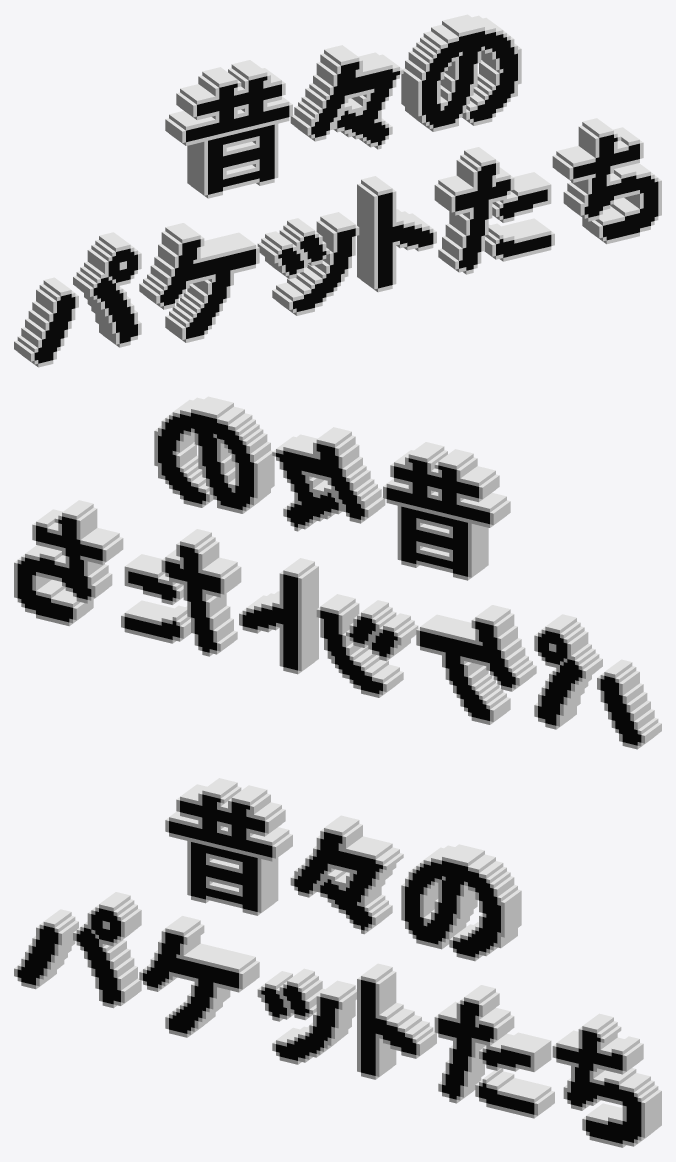
File: GameTitle-v2.glb
The picture shows the model from 3 angles, top to bottom: view 1: azimuth 30°, elevation 25°; view 2: azimuth 150°, elevation 25°; view 3: azimuth 330°, elevation 25°; orthographic projection.
Parts seen in each view (by area): view 1: Node; view 2: Node; view 3: Node.
Part boxes in pixels (bbox=[...]): Node: bbox=[14, 14, 661, 367]; Node: bbox=[14, 396, 661, 749]; Node: bbox=[14, 778, 661, 1147].
Bounding box in the file's own units: 17.1 × 6.6 × 0.8.
Materials: 1 (1 with a texture image).
